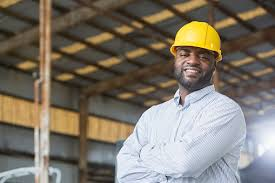Person_wearing_helmet: (168, 16, 224, 61)
